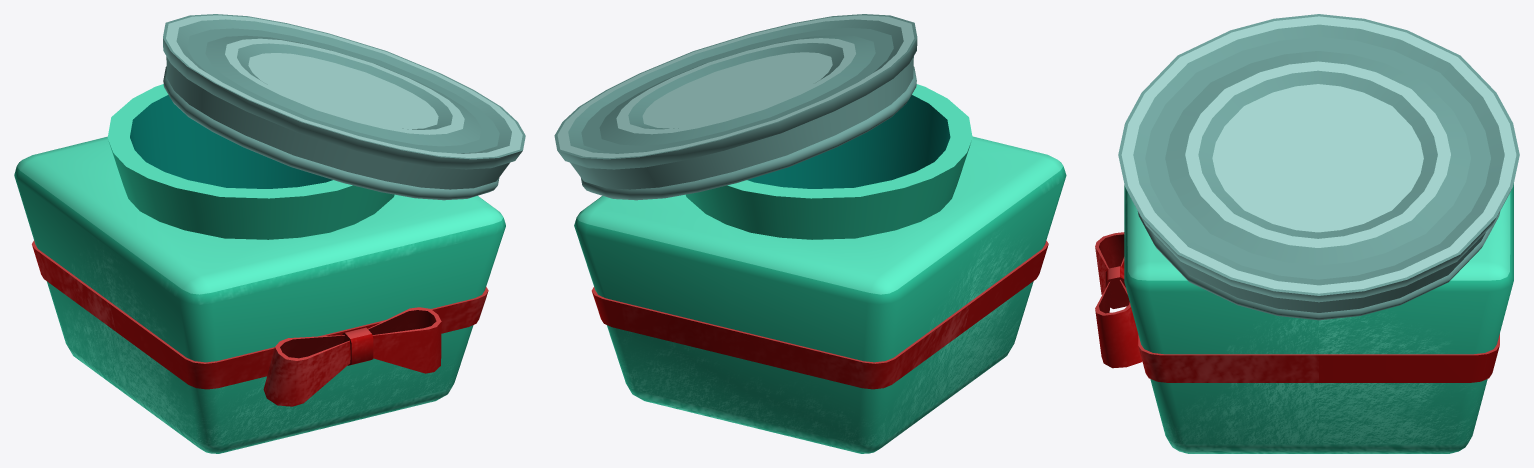
Rendered from 유리병7.fbx.
3 renders of one model, left to right at view 1: azimuth 30°, elevation 25°; view 2: azimuth 150°, elevation 25°; view 3: azimuth 270°, elevation 25°, orthographic. The views are drawn at different scales.
Parts seen in each view (by area): view 1: 7번; view 2: 7번; view 3: 7번.
Boxes of the visible parts, x1,y1,x2,y2 form: 7번: (14, 14, 525, 453); 7번: (554, 14, 1066, 453); 7번: (1095, 14, 1519, 453).
Bounding box in the file's own units: 366 × 288 × 321.
1 material, 1 textured.
